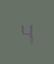four: (19, 20, 33, 43)
